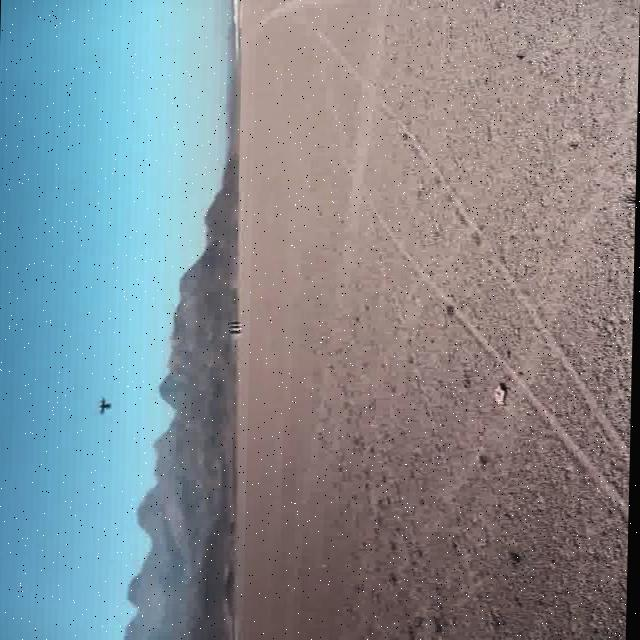drone: (93, 396, 115, 416)
